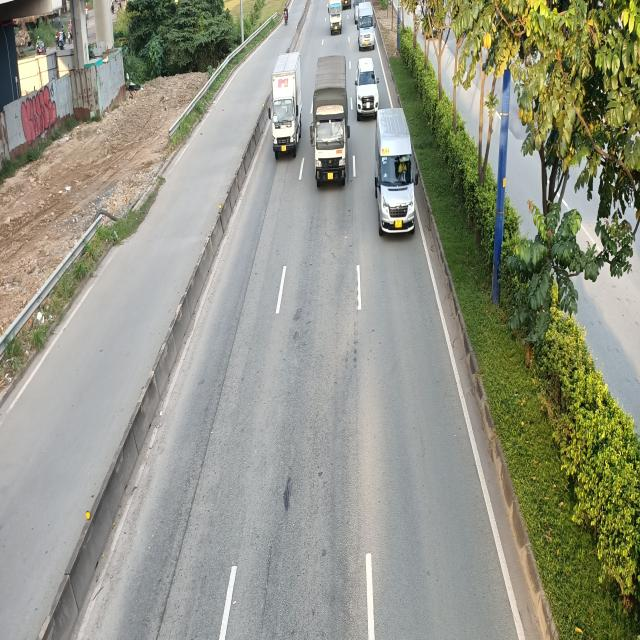car: (354, 56, 378, 118)
truck: (312, 53, 351, 184), (269, 55, 303, 160), (329, 0, 343, 35)
van: (376, 107, 420, 235), (356, 2, 375, 50)
